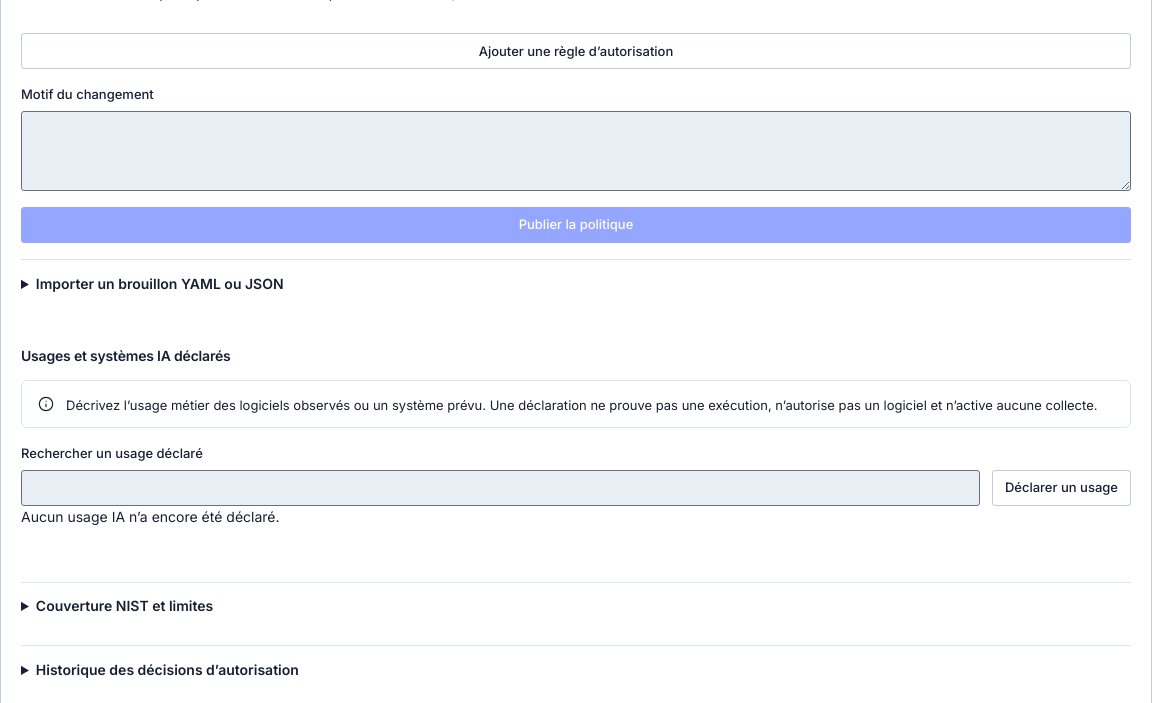
Test: NIST AI governance › shows partial and absent framework coverage without a certification claim
(page scrolled)
Click the heading "Couverture NIST et limites" at (125, 606), box [36, 597, 213, 614]
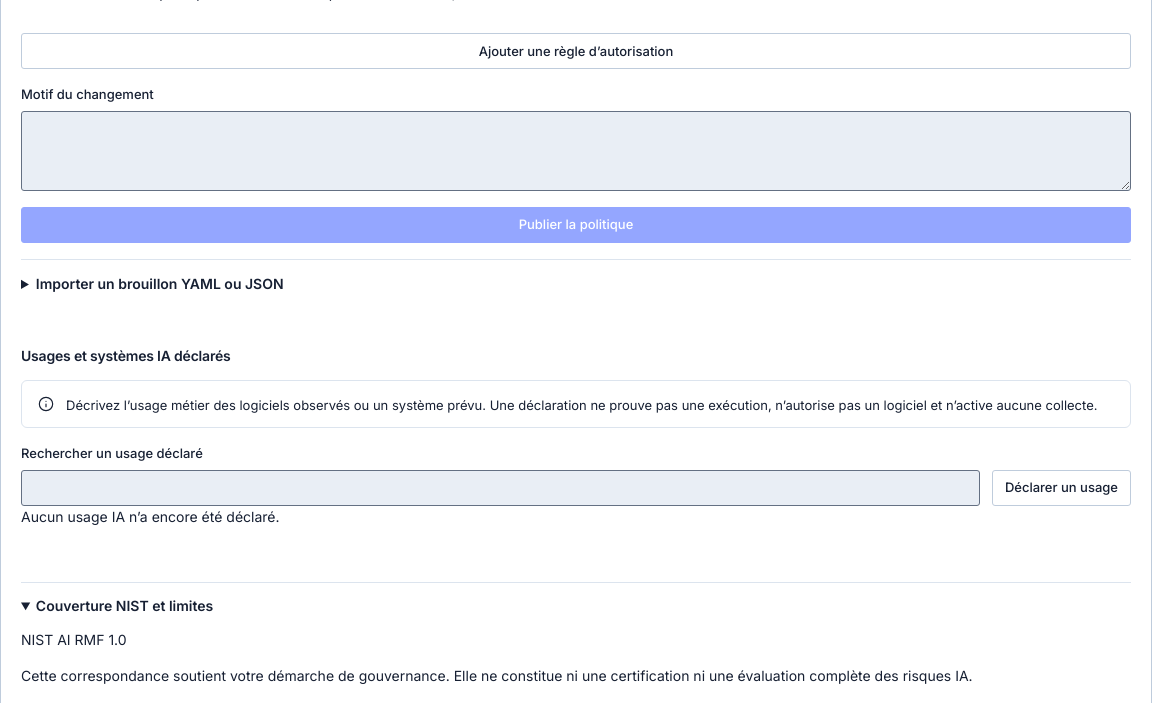
expect the text "ne constitue ni une certification" is shown: met, box [21, 667, 973, 684]
